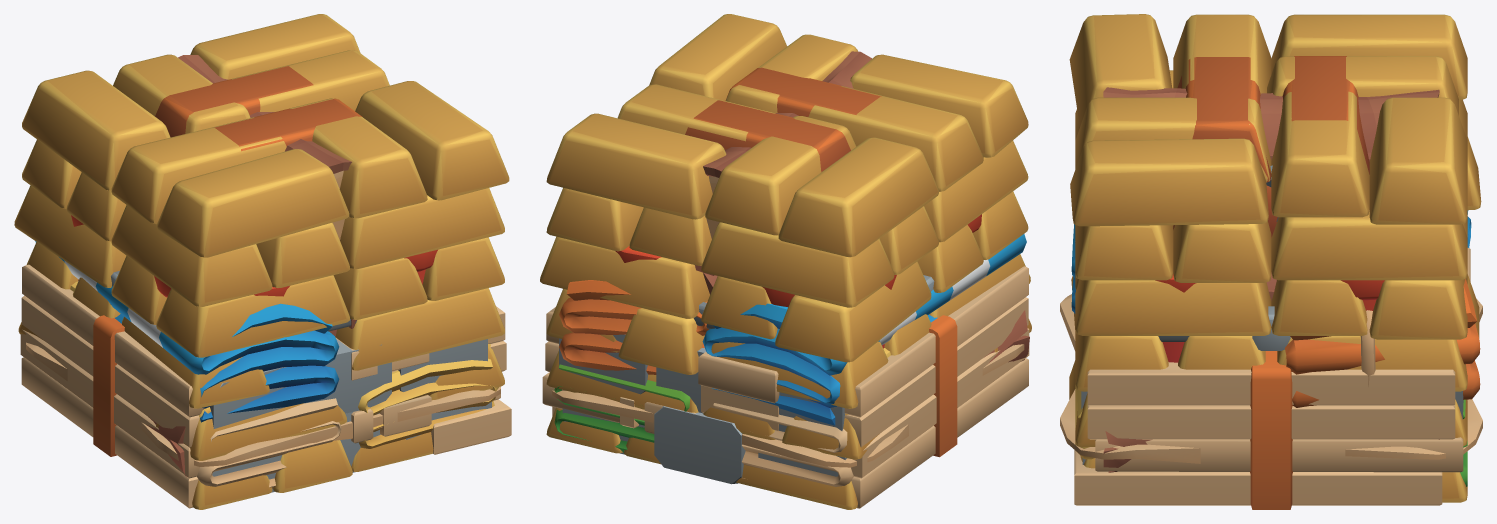
File: kk-resources.glb
The picture shows the model from 3 angles, left to right: view 1: azimuth 30°, elevation 25°; view 2: azimuth 150°, elevation 25°; view 3: azimuth 270°, elevation 25°; orthographic projection. The views are drawn at different scales.
Visible parts, largest first — view 1: Gold_Bars_Stack_Large, Wood_Planks_Stack_Medium, Textiles_Stack_Large_Colored, Copper_Bars_Stack_Medium, Stone_Bricks_Stack_Medium, Pallet_Wood_Covered_A, Wood_Log_Stack, Fuel_A_Barrels; view 2: Gold_Bars_Stack_Large, Wood_Planks_Stack_Medium, Textiles_Stack_Large_Colored, Stone_Bricks_Stack_Medium, Copper_Bars_Stack_Medium, Pallet_Wood_Covered_A, Wood_Log_Stack, Fuel_A_Barrels; view 3: Gold_Bars_Stack_Large, Wood_Planks_Stack_Medium, Copper_Bars_Stack_Medium, Textiles_Stack_Large_Colored, Pallet_Wood_Covered_A, Wood_Log_Stack, Fuel_A_Barrels.
Part boxes in pixels (<box>): Gold_Bars_Stack_Large: <box>14,14,509,509</box>; Wood_Planks_Stack_Medium: <box>20,264,511,508</box>; Textiles_Stack_Large_Colored: <box>35,241,498,488</box>; Copper_Bars_Stack_Medium: <box>155,66,361,151</box>; Stone_Bricks_Stack_Medium: <box>70,281,491,492</box>; Pallet_Wood_Covered_A: <box>26,342,500,466</box>; Wood_Log_Stack: <box>146,55,356,476</box>; Fuel_A_Barrels: <box>71,215,437,331</box>; Gold_Bars_Stack_Large: <box>540,14,1031,509</box>; Wood_Planks_Stack_Medium: <box>542,266,1029,508</box>; Textiles_Stack_Large_Colored: <box>554,234,1026,486</box>; Stone_Bricks_Stack_Medium: <box>559,334,890,484</box>; Copper_Bars_Stack_Medium: <box>685,67,881,171</box>; Pallet_Wood_Covered_A: <box>552,344,1024,467</box>; Wood_Log_Stack: <box>695,51,1029,364</box>; Fuel_A_Barrels: <box>615,214,981,348</box>; Gold_Bars_Stack_Large: <box>1069,14,1481,502</box>; Wood_Planks_Stack_Medium: <box>1074,248,1470,509</box>; Copper_Bars_Stack_Medium: <box>1173,56,1369,237</box>; Textiles_Stack_Large_Colored: <box>1071,210,1480,486</box>; Pallet_Wood_Covered_A: <box>1060,294,1482,463</box>; Wood_Log_Stack: <box>1103,87,1439,472</box>; Fuel_A_Barrels: <box>1155,274,1384,362</box>.
Size of the model in its own units: 1.72 by 1.7 by 1.72.
1 material, 1 textured.
